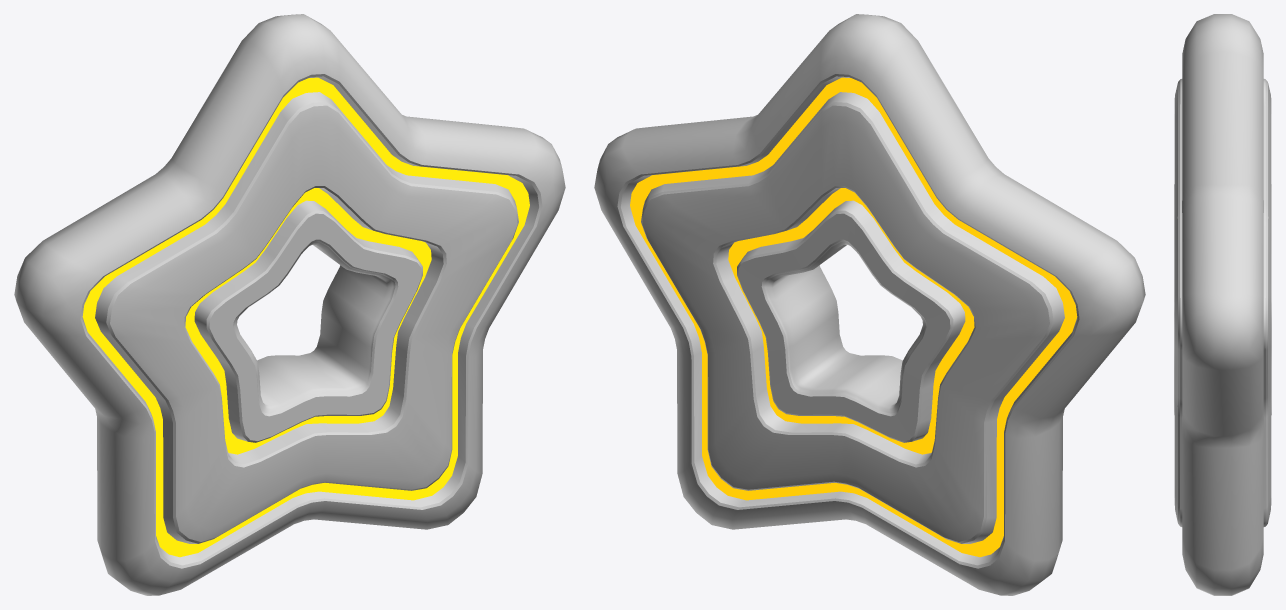
Rendered from Star_01.fbx.
The picture shows the model from 3 angles, left to right: view 1: azimuth 30°, elevation 25°; view 2: azimuth 150°, elevation 25°; view 3: azimuth 270°, elevation 25°; orthographic projection. The views are drawn at different scales.
Visible parts, largest first — view 1: Star01; view 2: Star01; view 3: Star01.
Boxes of the visible parts, x1,y1,x2,y2 form: Star01: (14, 14, 565, 595); Star01: (594, 14, 1145, 595); Star01: (1174, 14, 1271, 595).
Bounding box in the file's own units: 277 × 265 × 46.13.
